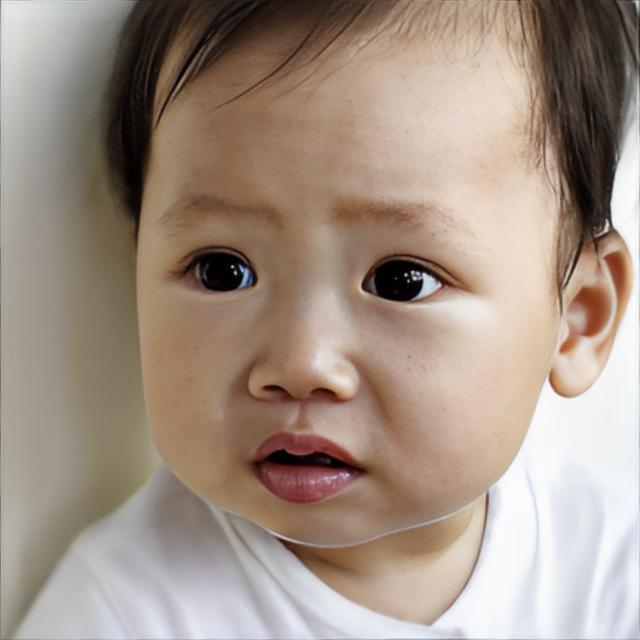fear: (135, 0, 556, 549)
